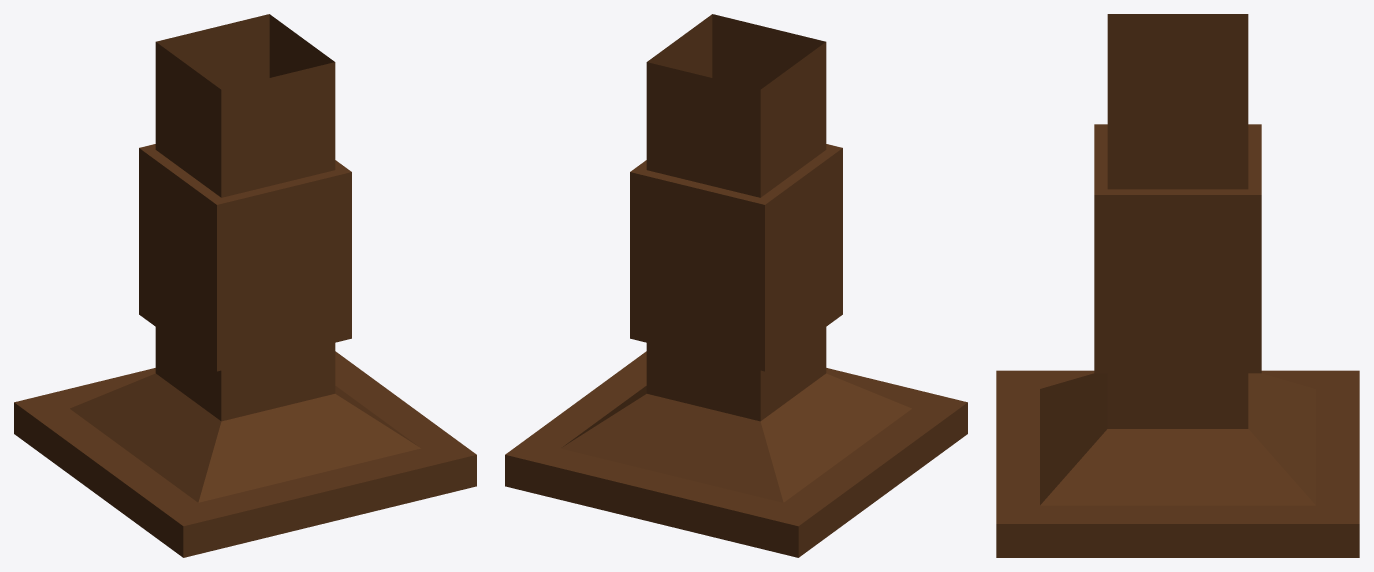
File: Pont_Pied1B.FBX
3 views of the same model, side by side, from view 1: azimuth 30°, elevation 25°; view 2: azimuth 150°, elevation 25°; view 3: azimuth 270°, elevation 25° (orthographic). The views are drawn at different scales.
Parts seen in each view (by area): view 1: Pont_Pied1B; view 2: Pont_Pied1B; view 3: Pont_Pied1B.
Boxes of the visible parts, x1=… form: Pont_Pied1B: x1=14, y1=14, x2=476, y2=557; Pont_Pied1B: x1=505, y1=14, x2=967, y2=557; Pont_Pied1B: x1=996, y1=14, x2=1359, y2=557.
Bounding box in the file's own units: 1 × 1.33 × 1.
